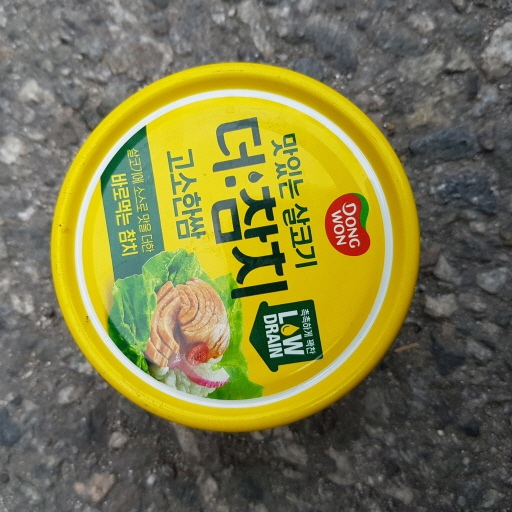Metal_1: (52, 60, 420, 432)
